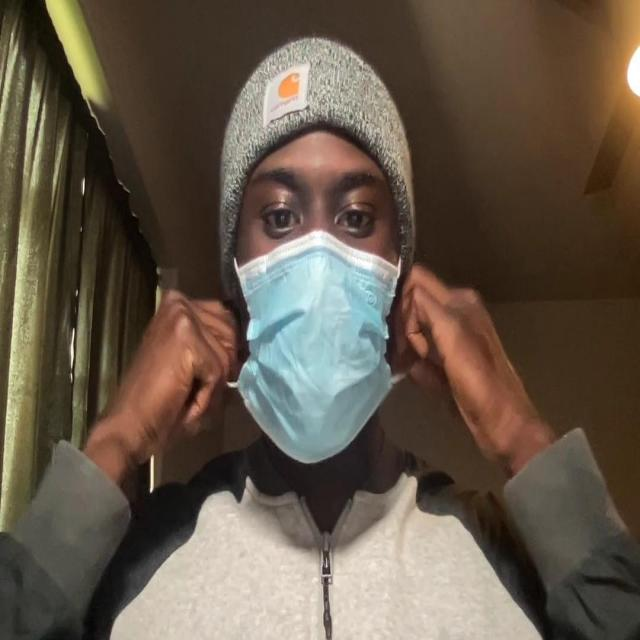face: (228, 122, 410, 466)
